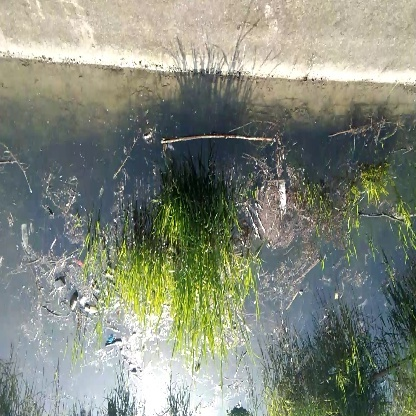branch: (158, 123, 276, 149)
